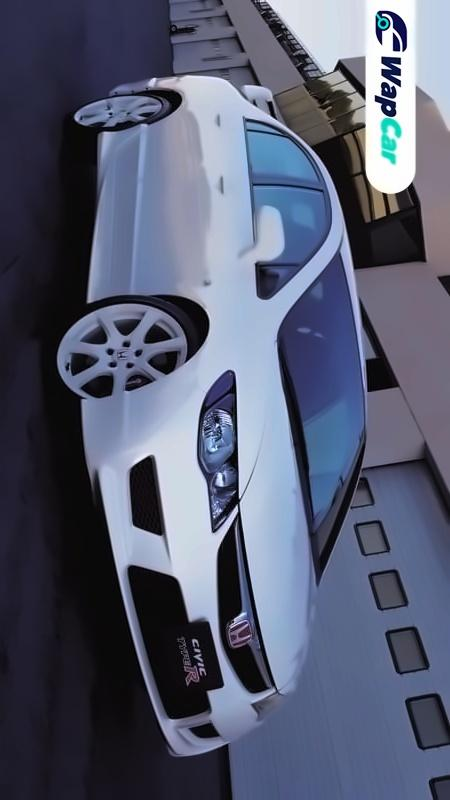Car hood: (229, 310, 326, 704)
Driver-s door - -F-R-: (78, 171, 352, 307)
Fender - -F-R-: (64, 278, 299, 403)
Fender - -R-R-: (88, 73, 286, 136)
Front bumper: (68, 373, 279, 760)
Headlight - -L-: (194, 365, 241, 537)
Passenger-s door - -R-R-: (77, 106, 348, 194)
Side bumper - -R-: (74, 118, 157, 317)
Side mirror - -R-: (229, 201, 292, 279)
